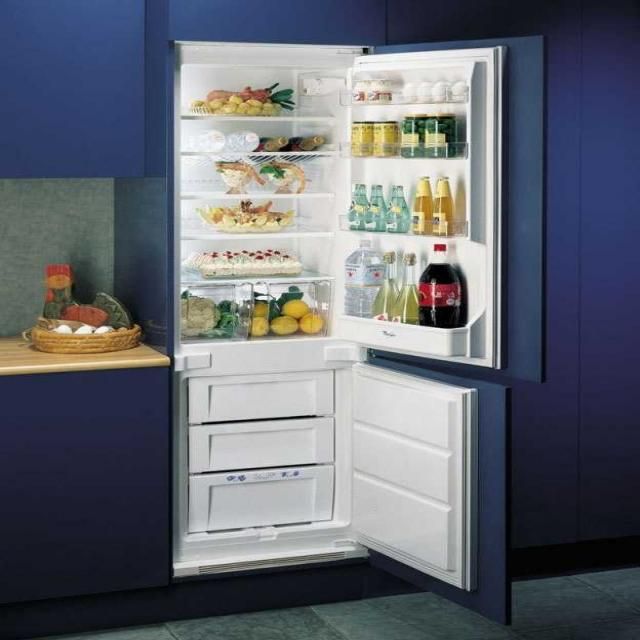refrigerator: (173, 41, 492, 578)
